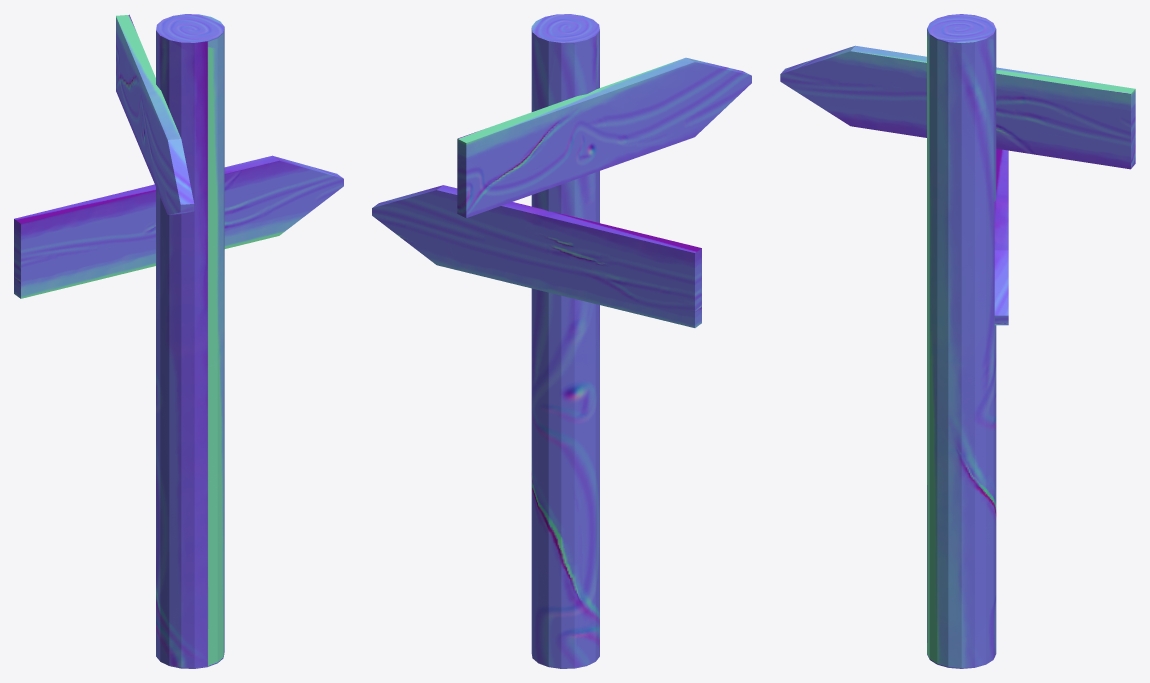
Rendered from SM_SignDouble.fbx.
3 renders of one model, left to right at view 1: azimuth 30°, elevation 25°; view 2: azimuth 150°, elevation 25°; view 3: azimuth 270°, elevation 25°, orthographic.
Parts seen in each view (by area): view 1: Cylinder; view 2: Cylinder; view 3: Cylinder.
Boxes of the visible parts, x1,y1,x2,y2 form: Cylinder: (14, 14, 343, 668); Cylinder: (372, 14, 751, 668); Cylinder: (780, 14, 1135, 668).
Bounding box in the file's own units: 54 × 100 × 51.43.
